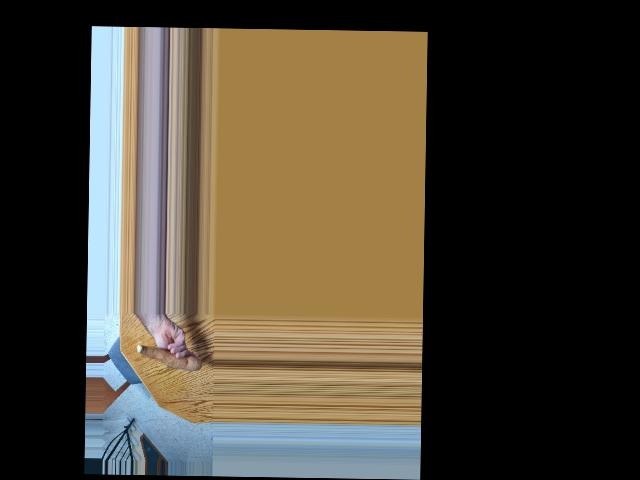sweet_potato: (134, 343, 199, 374)
